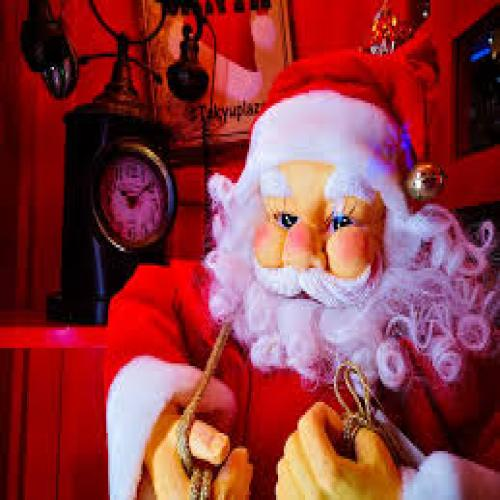Santa: (102, 47, 498, 498)
